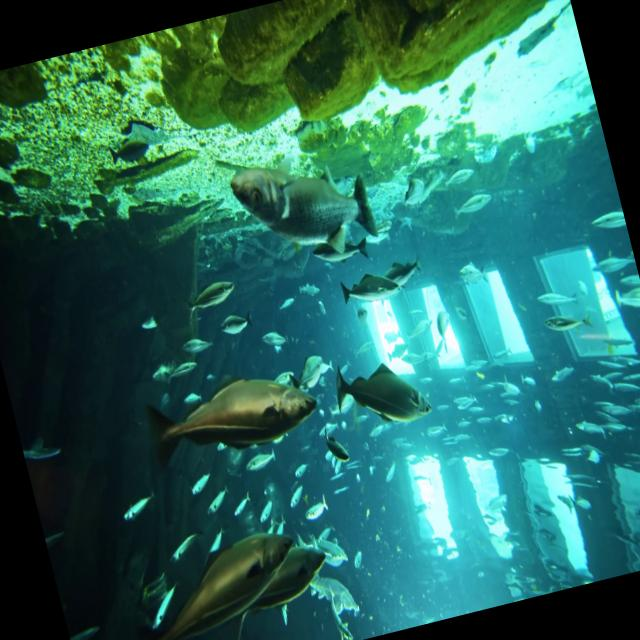fish: (130, 523, 318, 640), (226, 134, 380, 266), (144, 358, 322, 472), (151, 543, 337, 635), (332, 351, 434, 440), (336, 251, 424, 310), (540, 303, 594, 339)
